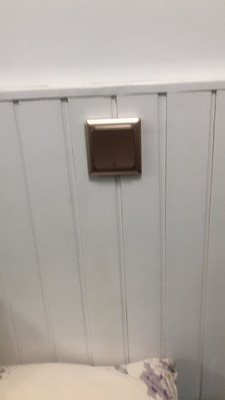switch: (93, 128, 136, 167)
